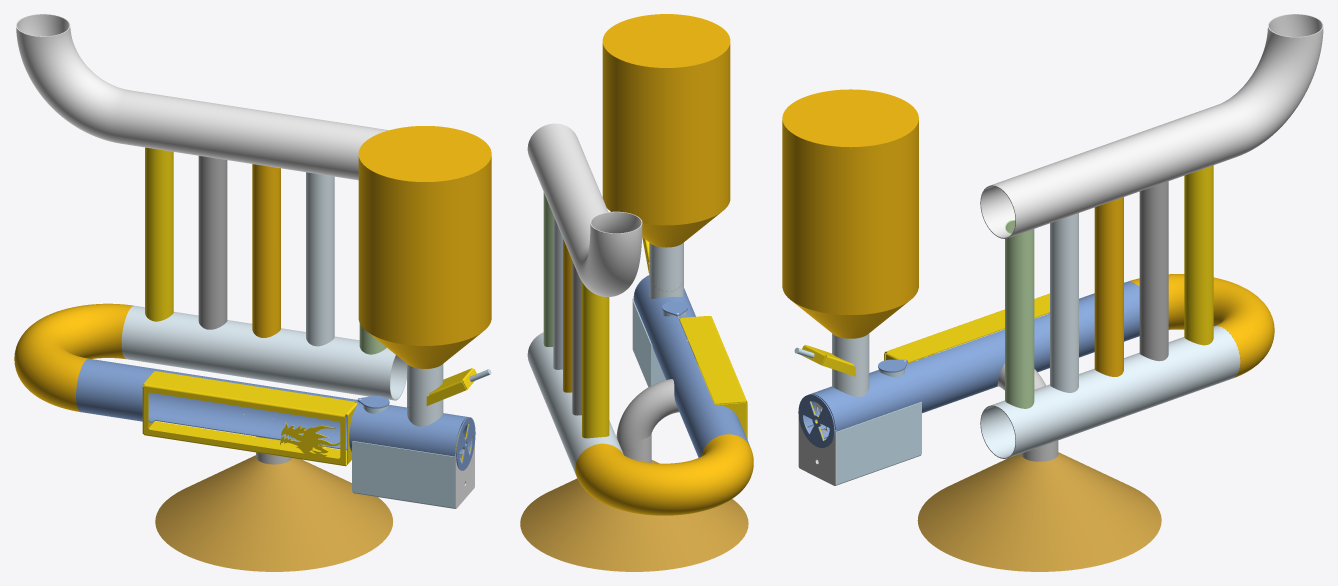
The model's file is sobaa-v3.glb.
3 renders of one model, left to right at view 1: azimuth 30°, elevation 25°; view 2: azimuth 150°, elevation 25°; view 3: azimuth 270°, elevation 25°, orthographic. The views are drawn at different scales.
Parts seen in each view (by area): view 1: depo, Part 30, Part 1, Part 29, Part 4, cam, Part 31, sagdÄ±s, egzoz4, egzoz2, egzoz5, egzoz3 (+4 smaller); view 2: depo, Part 1, Part 30, Part 31, Part 4, egzoz5, Part 29, cam, Part 3, depoBoru, egzoz1, egzoz4 (+4 smaller); view 3: depo, Part 30, Part 1, Part 29, Part 4, egzoz1, egzoz5, egzoz4, egzoz3, egzoz2, Part 31, sagdÄ±s (+5 smaller).
Boxes of the visible parts, x1,y1,x2,y2 form: depo: (358, 126, 491, 368); Part 30: (16, 14, 388, 180); Part 1: (155, 455, 393, 571); Part 29: (121, 305, 406, 400); Part 4: (76, 358, 471, 456); cam: (142, 371, 357, 466); Part 31: (14, 303, 133, 411); sagdÄ±s: (352, 441, 454, 508); egzoz4: (198, 156, 227, 329); egzoz2: (306, 172, 334, 346); egzoz5: (145, 147, 173, 321); egzoz3: (252, 164, 280, 337); depo: (602, 14, 730, 247); Part 1: (520, 460, 748, 571); Part 30: (527, 123, 642, 296); Part 31: (575, 434, 753, 515); Part 4: (634, 276, 749, 457); egzoz5: (582, 282, 609, 438); Part 29: (527, 332, 623, 474); cam: (679, 316, 747, 439); Part 3: (616, 379, 679, 449); depoBoru: (649, 242, 683, 298); egzoz1: (543, 192, 553, 346); egzoz4: (572, 261, 581, 415); depo: (782, 89, 918, 338); Part 30: (980, 14, 1323, 238); Part 1: (917, 452, 1161, 571); Part 29: (980, 326, 1240, 458); Part 4: (803, 281, 1139, 431); egzoz1: (1005, 220, 1034, 408); egzoz5: (1184, 165, 1213, 345); egzoz4: (1139, 181, 1168, 361); egzoz3: (1094, 197, 1123, 376); egzoz2: (1050, 213, 1078, 392); Part 31: (1127, 274, 1274, 377); sagdÄ±s: (836, 401, 921, 485).
Bounding box in the file's own units: 0.7336 × 0.9989 × 1.11.
